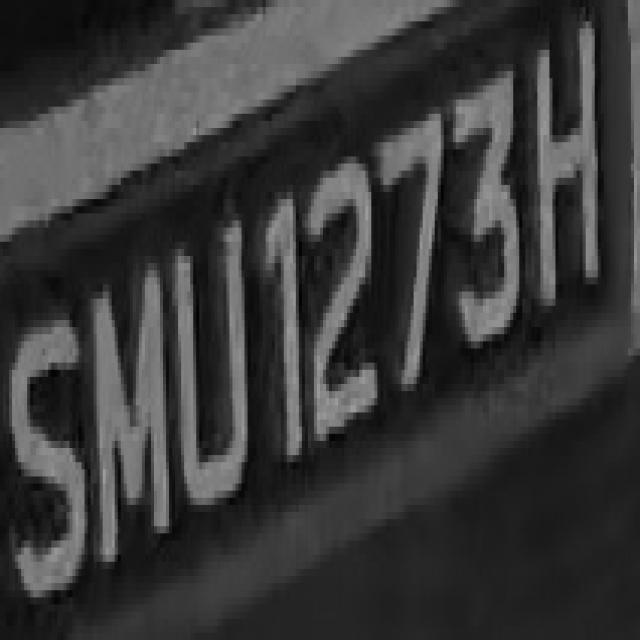1: (254, 150, 308, 483)
2: (296, 157, 383, 455)
3: (441, 71, 528, 356)
7: (362, 92, 447, 398)
H: (519, 14, 613, 313)
M: (88, 235, 172, 554)
S: (3, 306, 94, 618)
U: (166, 206, 248, 519)
